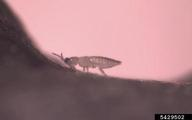Thrips: (51, 49, 124, 80)
